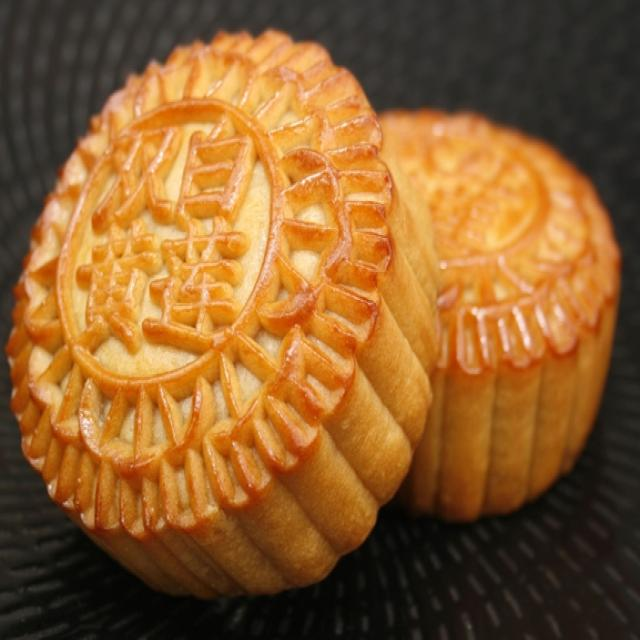蛋糕甜品: (21, 31, 598, 578)
